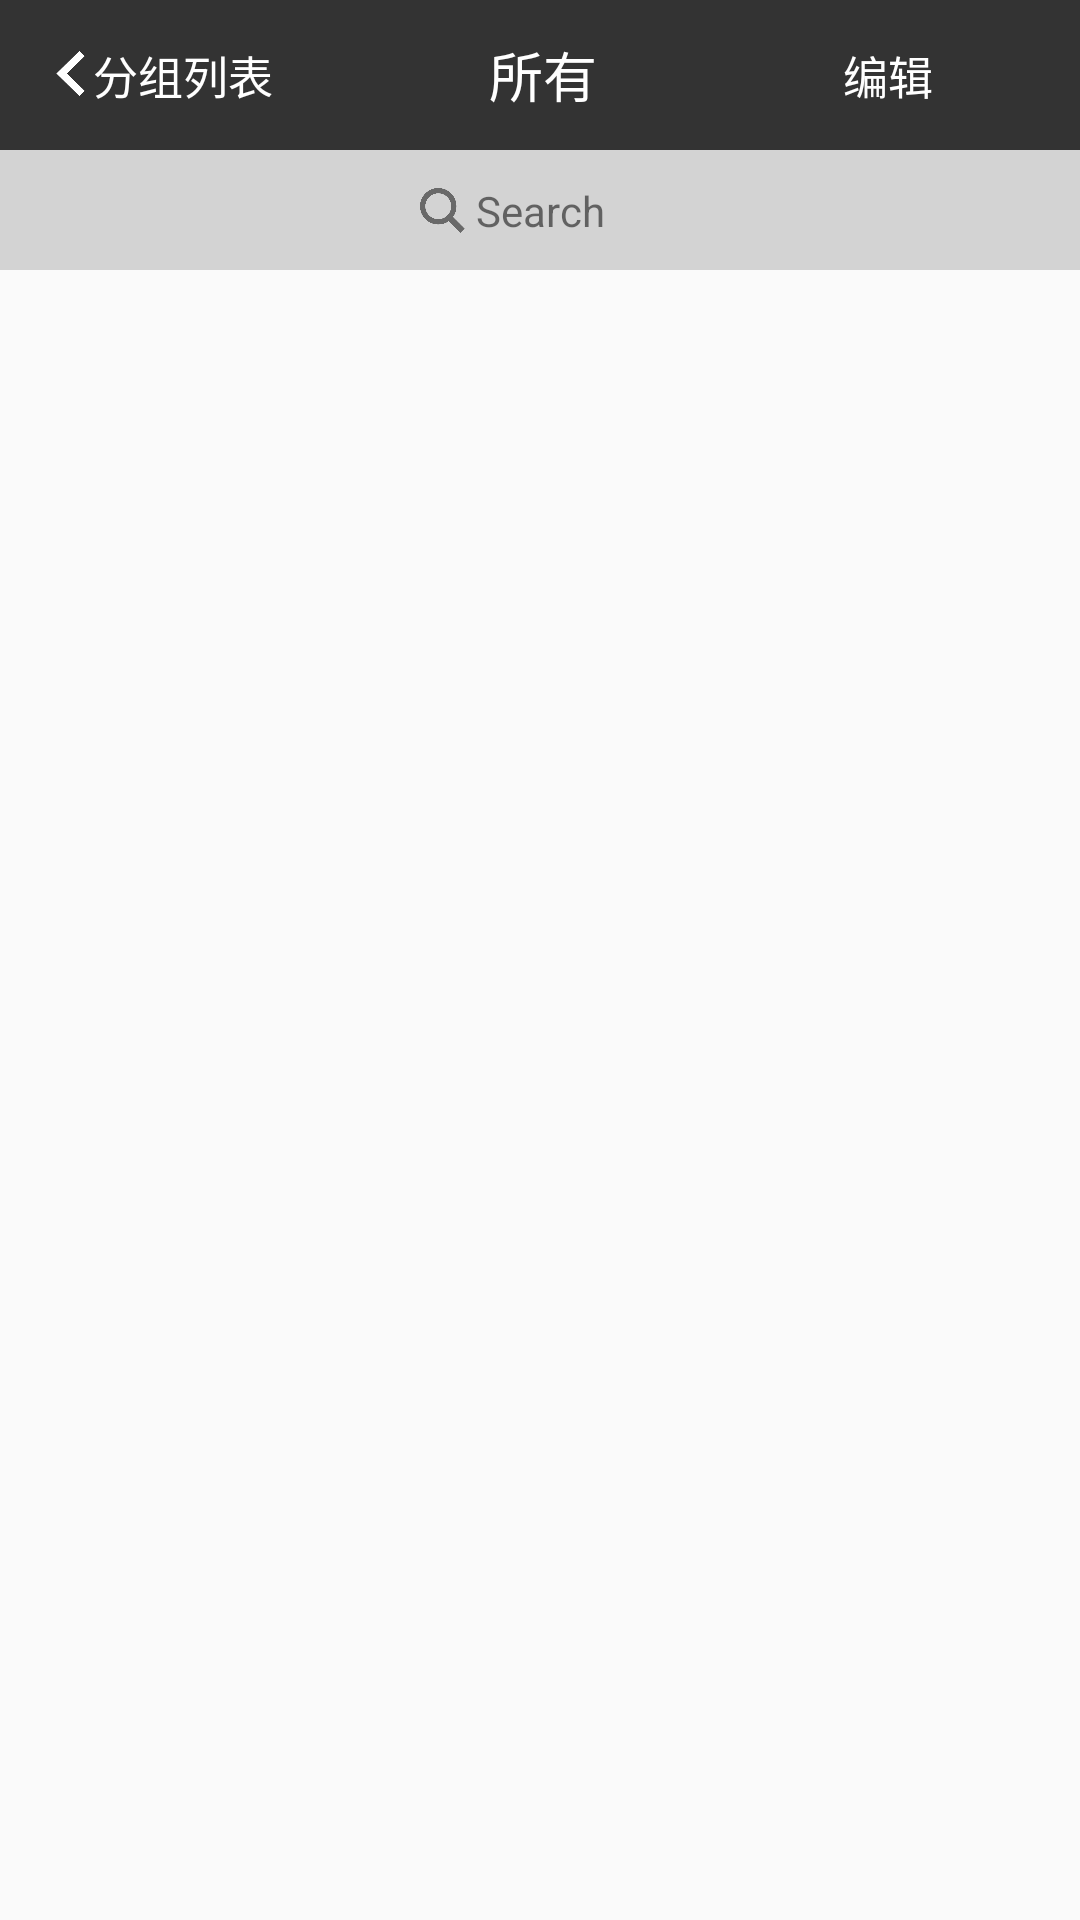

Locate icon controls on the screen. Image size 1080px×1920px, boxes as rect(x1, y1, x2, y2).
left: rect(56, 51, 85, 96)
